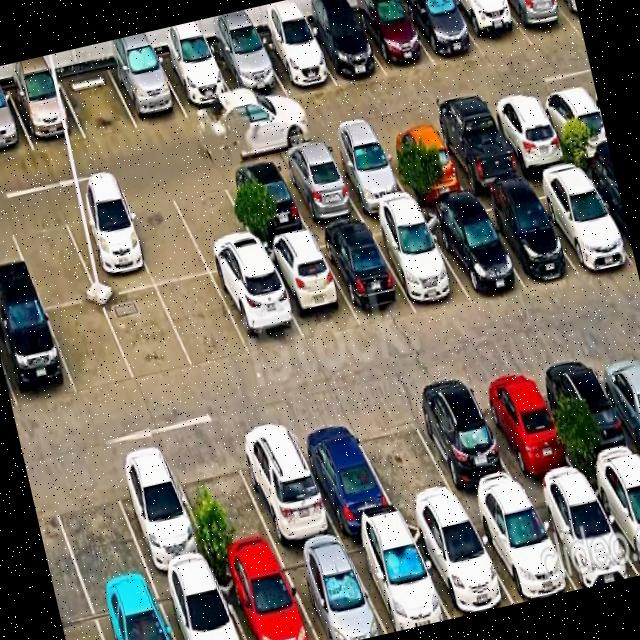empty: (347, 397, 463, 519), (44, 462, 150, 595), (167, 439, 278, 566), (168, 172, 262, 273), (118, 187, 209, 285), (7, 209, 97, 308), (156, 274, 250, 368), (101, 286, 193, 382), (45, 299, 135, 395), (58, 66, 137, 139)
occupied: (404, 380, 525, 509), (228, 419, 340, 551), (468, 366, 583, 493), (105, 450, 213, 579), (288, 411, 399, 535), (538, 352, 640, 477), (467, 495, 577, 603), (527, 482, 638, 589), (342, 524, 450, 633), (406, 512, 514, 618), (527, 169, 634, 273), (277, 540, 386, 640), (471, 187, 576, 288), (261, 235, 360, 342), (420, 201, 525, 301), (315, 223, 415, 326), (367, 212, 471, 310), (60, 197, 155, 297), (214, 554, 317, 640), (212, 263, 305, 354), (0, 306, 76, 409), (429, 110, 523, 193), (220, 160, 310, 245), (274, 148, 363, 230), (323, 137, 412, 216), (377, 124, 467, 201), (486, 96, 572, 174), (153, 568, 244, 640), (352, 0, 435, 77), (303, 13, 386, 85), (587, 465, 640, 574), (107, 56, 187, 128), (156, 48, 238, 118), (535, 85, 610, 161), (7, 77, 85, 150), (400, 0, 484, 66), (255, 27, 336, 95), (589, 341, 640, 448), (580, 162, 635, 260), (210, 38, 286, 106), (89, 581, 174, 640), (448, 0, 532, 58), (501, 0, 580, 45), (0, 88, 33, 158), (556, 0, 582, 33)
